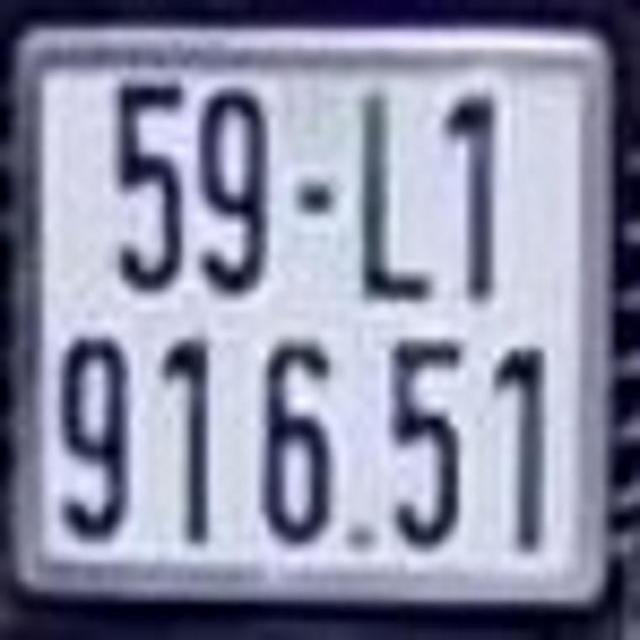1: (154, 314, 224, 556), (436, 78, 511, 302), (488, 323, 558, 559)
5: (386, 330, 468, 553), (114, 64, 186, 294)
6: (258, 327, 338, 547)
9: (192, 66, 268, 298), (56, 326, 128, 550)
L: (345, 81, 433, 304)
